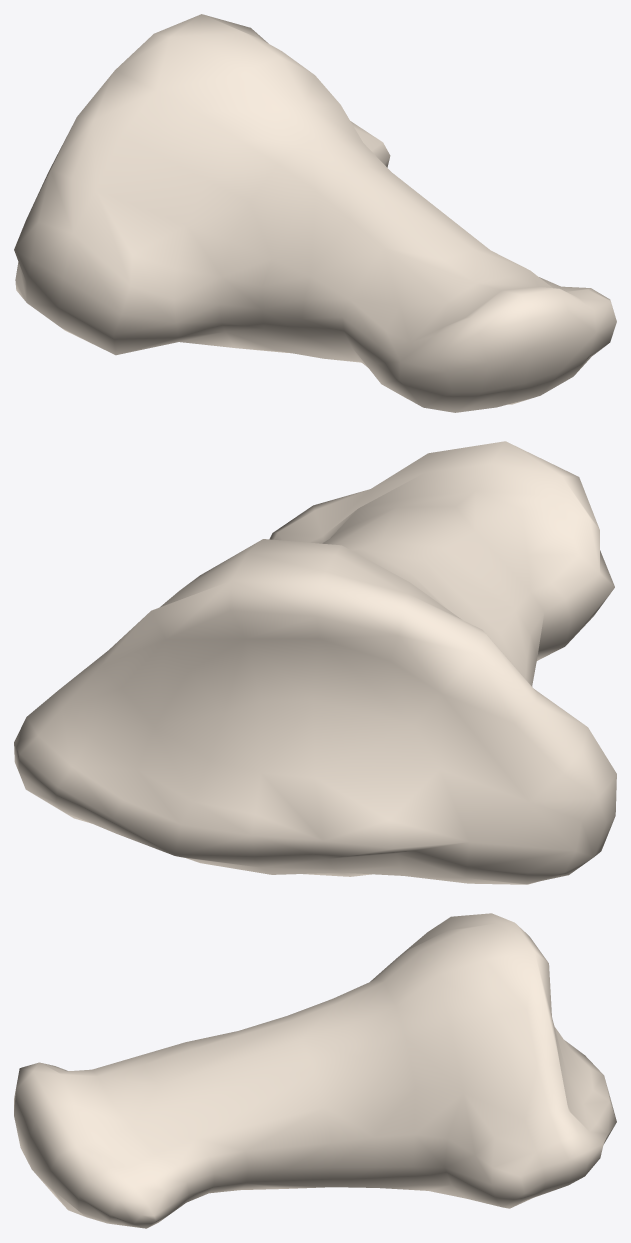
File: left_toe_1_distal.glb
3 renders of one model, top to bottom at view 1: azimuth 30°, elevation 25°; view 2: azimuth 150°, elevation 25°; view 3: azimuth 270°, elevation 25°, orthographic. The views are drawn at different scales.
Visible parts, largest first — view 1: Distal phalanx of first finger of foot.r; view 2: Distal phalanx of first finger of foot.r; view 3: Distal phalanx of first finger of foot.r.
Boxes of the visible parts, bbox=[...] form: Distal phalanx of first finger of foot.r: bbox=[14, 14, 616, 412]; Distal phalanx of first finger of foot.r: bbox=[14, 441, 616, 884]; Distal phalanx of first finger of foot.r: bbox=[14, 913, 616, 1228].
Bounding box in the file's own units: 0.0208 × 0.0114 × 0.0271.
